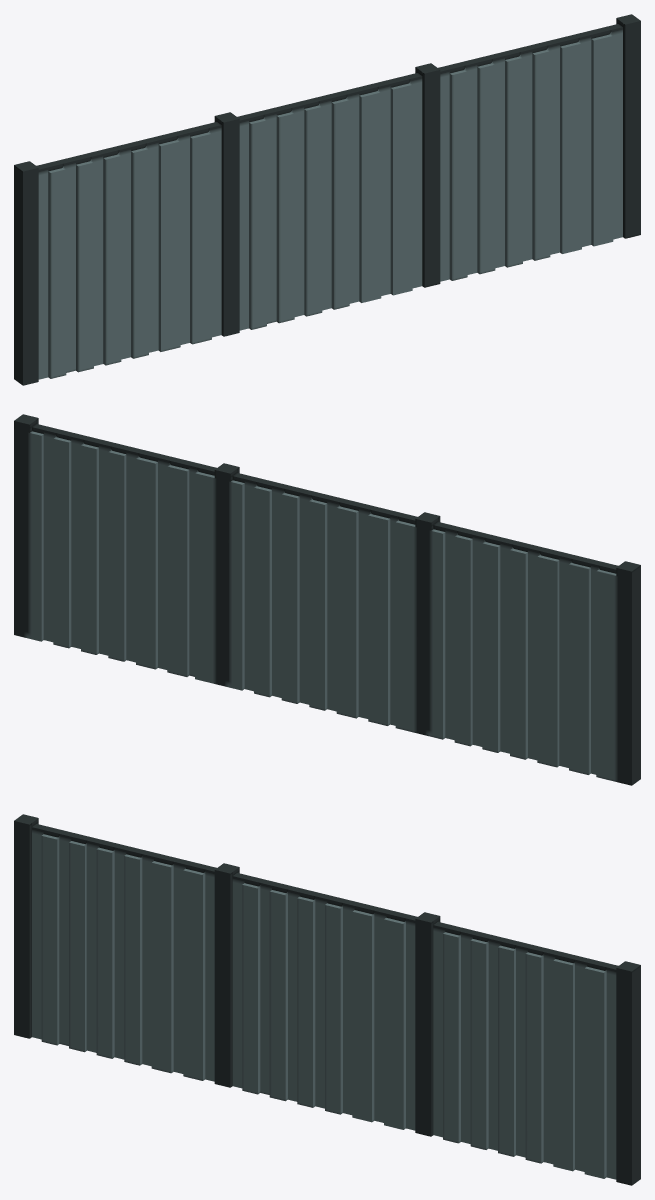
File: plot_3_przeslo.dae
3 renders of one model, top to bottom at view 1: azimuth 30°, elevation 25°; view 2: azimuth 150°, elevation 25°; view 3: azimuth 330°, elevation 25°, orthographic.
Visible parts, largest first — view 1: Content; view 2: Content; view 3: Content.
Part boxes in pixels (left/top/right/bottom): Content: left=14, top=14, right=640, bottom=385; Content: left=14, top=414, right=640, bottom=785; Content: left=14, top=814, right=640, bottom=1185.
Size of the model in its own units: 157 by 52 by 4.
Materials: 1 (1 with a texture image).
